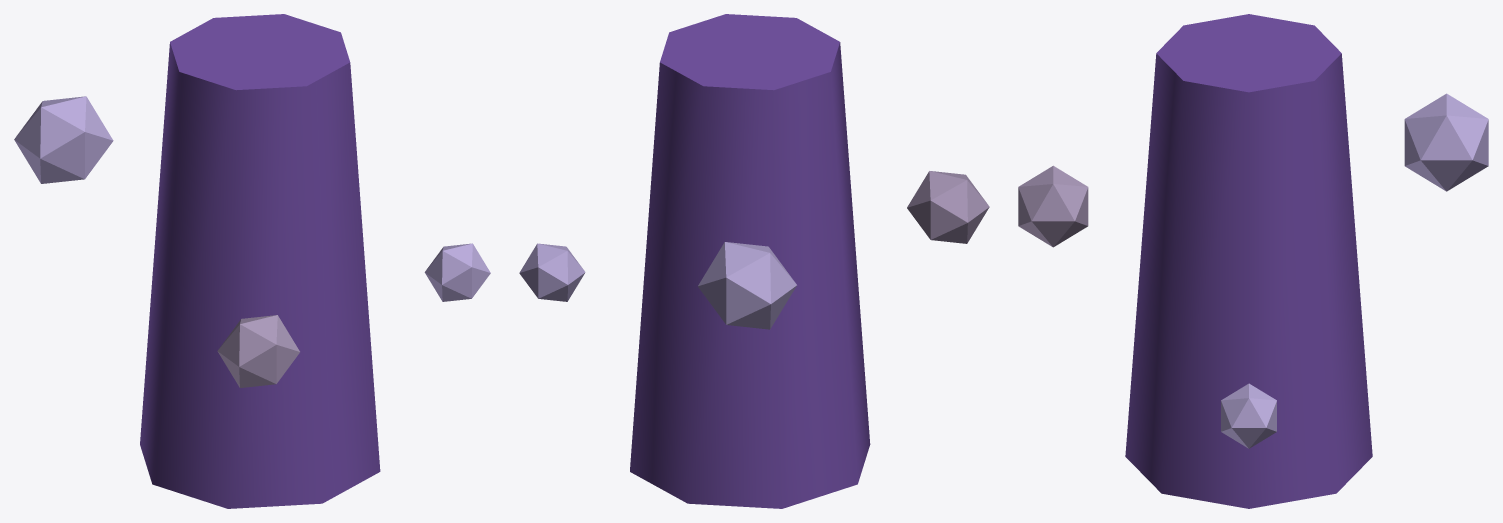
Rendered from landmark.glb.
3 views of the same model, side by side, from view 1: azimuth 30°, elevation 25°; view 2: azimuth 150°, elevation 25°; view 3: azimuth 270°, elevation 25° (orthographic).
Visible parts, largest first — view 1: landmark_core_7, landmark_orbit_2, landmark_orbit_1, landmark_orbit_0; view 2: landmark_core_7, landmark_orbit_2, landmark_orbit_1, landmark_orbit_0; view 3: landmark_core_7, landmark_orbit_2, landmark_orbit_1, landmark_orbit_0.
Part boxes in pixels (x1,y1,x2,y2): landmark_core_7: [140, 14, 380, 508]; landmark_orbit_2: [14, 96, 113, 183]; landmark_orbit_1: [217, 315, 299, 387]; landmark_orbit_0: [424, 243, 490, 301]; landmark_core_7: [630, 14, 870, 508]; landmark_orbit_2: [698, 242, 796, 329]; landmark_orbit_1: [907, 171, 989, 243]; landmark_orbit_0: [519, 243, 585, 301]; landmark_core_7: [1125, 14, 1372, 508]; landmark_orbit_2: [1404, 93, 1488, 191]; landmark_orbit_1: [1018, 165, 1088, 247]; landmark_orbit_0: [1221, 383, 1276, 448].
Size of what is drawn, in the model's own units: 3.96 by 4.32 by 4.57.
